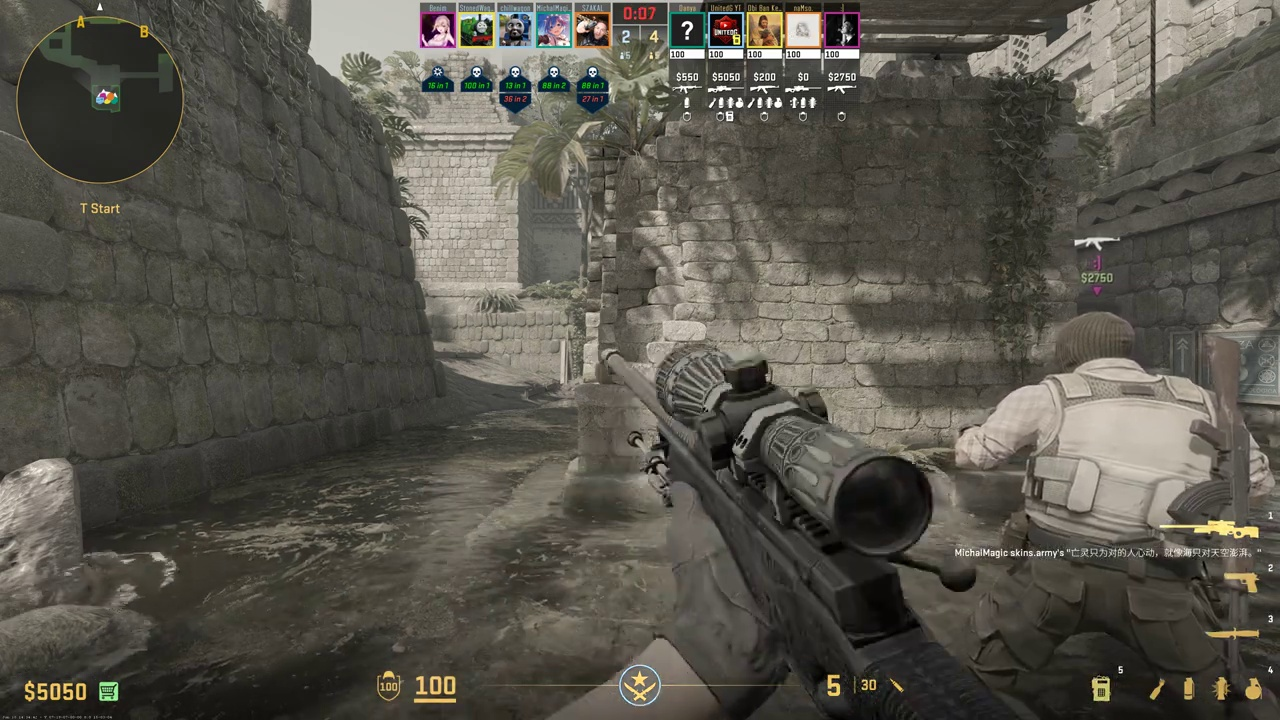Terrorist: (984, 311, 1233, 720)
